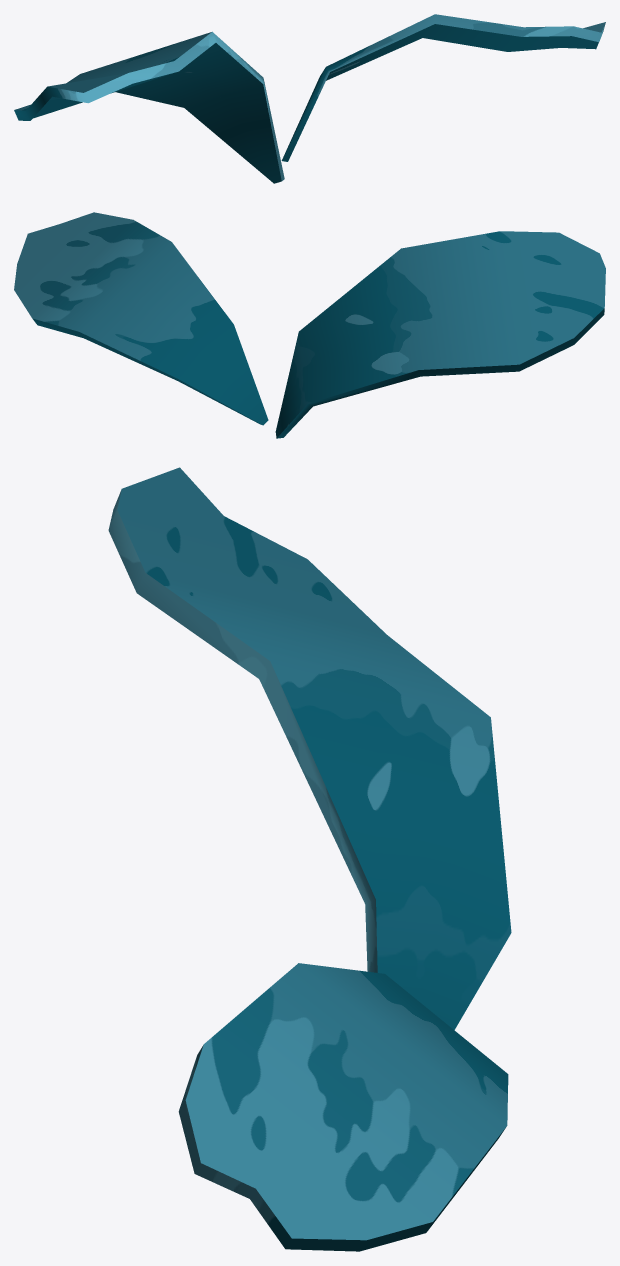
File: maviot2.fbx
3 views of the same model, one above another, from view 1: azimuth 30°, elevation 25°; view 2: azimuth 150°, elevation 25°; view 3: azimuth 270°, elevation 25° (orthographic). The views are drawn at different scales.
Visible parts, largest first — view 1: ot2.004; view 2: ot2.004; view 3: ot2.004.
Boxes of the visible parts, <box> form: ot2.004: <box>14,14,605,183</box>; ot2.004: <box>14,212,605,438</box>; ot2.004: <box>108,467,511,1251</box>.
Bounding box in the file's own units: 5.3 × 1.84 × 1.62.
Materials: 1 (1 with a texture image).
